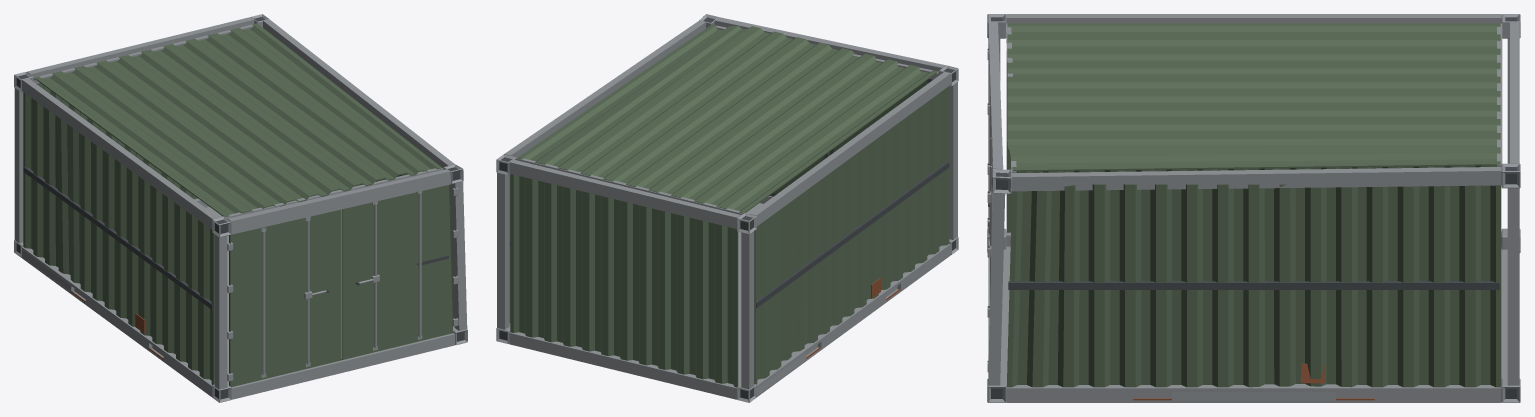
Rendered from cargo_container_dented_olive.glb.
3 renders of one model, left to right at view 1: azimuth 30°, elevation 25°; view 2: azimuth 150°, elevation 25°; view 3: azimuth 270°, elevation 25°, orthographic. The views are drawn at different scales.
Parts seen in each view (by area): view 1: Container_Dented_Body; view 2: Container_Dented_Body; view 3: Container_Dented_Body.
Part boxes in pixels (x1,y1,x2,y2): Container_Dented_Body: (14,14,467,402); Container_Dented_Body: (496,14,958,402); Container_Dented_Body: (987,14,1520,402).
Size of the model in its own units: 3.5 by 2.4 by 5.
